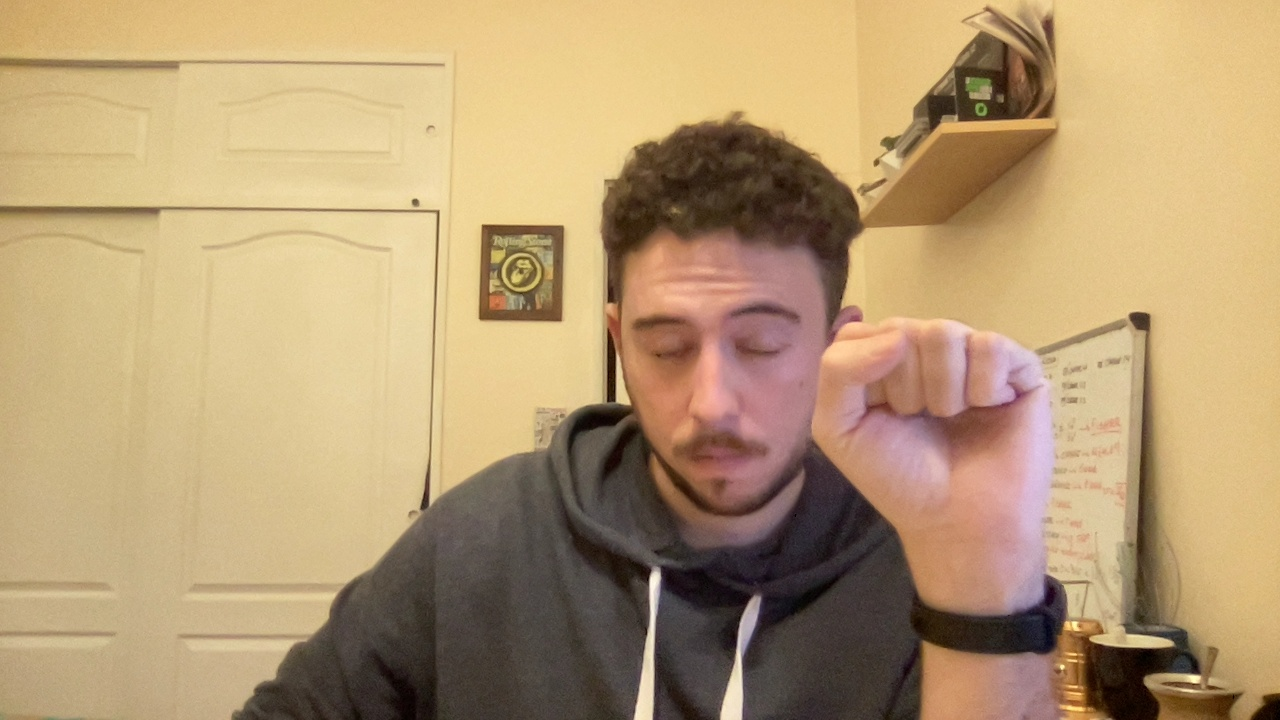cerrado: (804, 314, 1074, 546)
